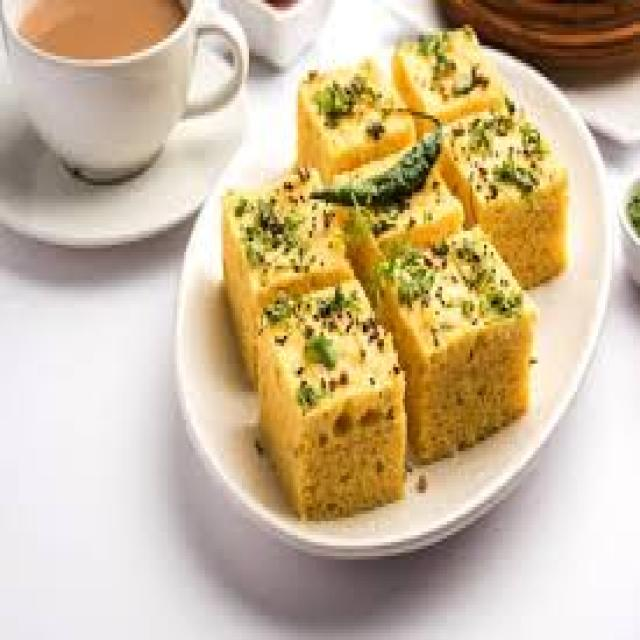DHOKLA: (253, 279, 404, 532), (372, 220, 533, 457), (219, 171, 355, 380), (441, 116, 566, 293), (296, 58, 412, 199), (401, 24, 505, 134)
